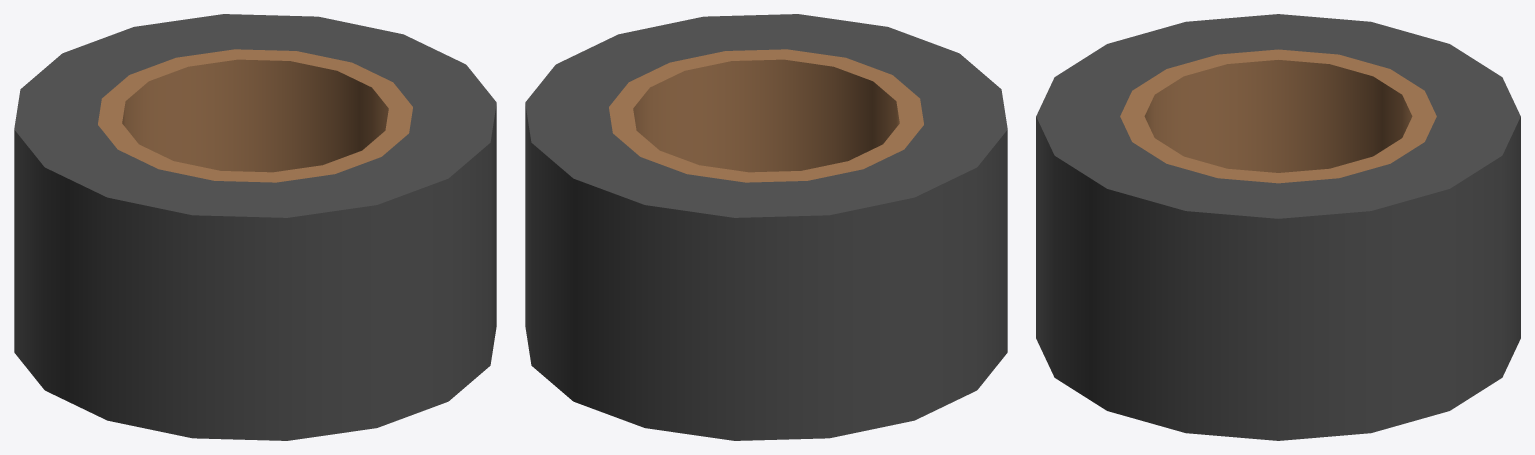
Rendered from ScotchTape_01.fbx.
The picture shows the model from 3 angles, left to right: view 1: azimuth 30°, elevation 25°; view 2: azimuth 150°, elevation 25°; view 3: azimuth 270°, elevation 25°; orthographic projection.
Visible parts, largest first — view 1: ScotchTape_01; view 2: ScotchTape_01; view 3: ScotchTape_01.
Part boxes in pixels (x1,y1,x2,y2): ScotchTape_01: [14, 14, 496, 440]; ScotchTape_01: [525, 14, 1007, 440]; ScotchTape_01: [1036, 14, 1520, 440].
Size of the model in its own units: 16.93 by 8.56 by 16.93.
